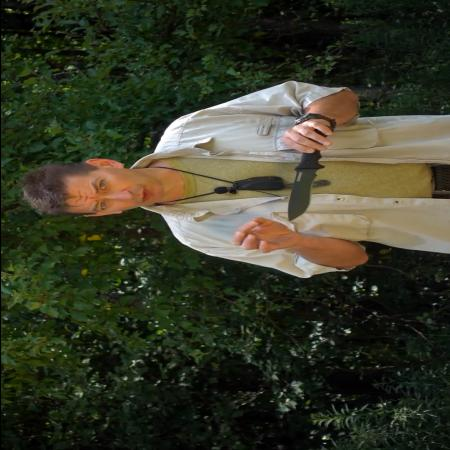long weapon: (278, 129, 336, 222)
